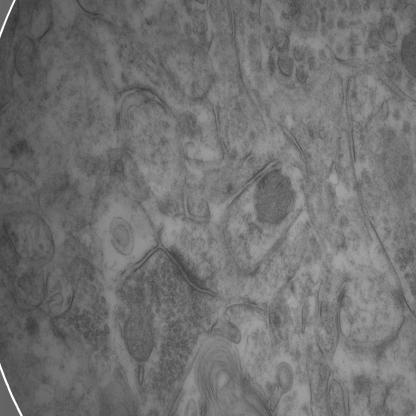mitochondria: (255, 173, 292, 226), (124, 304, 154, 361)
